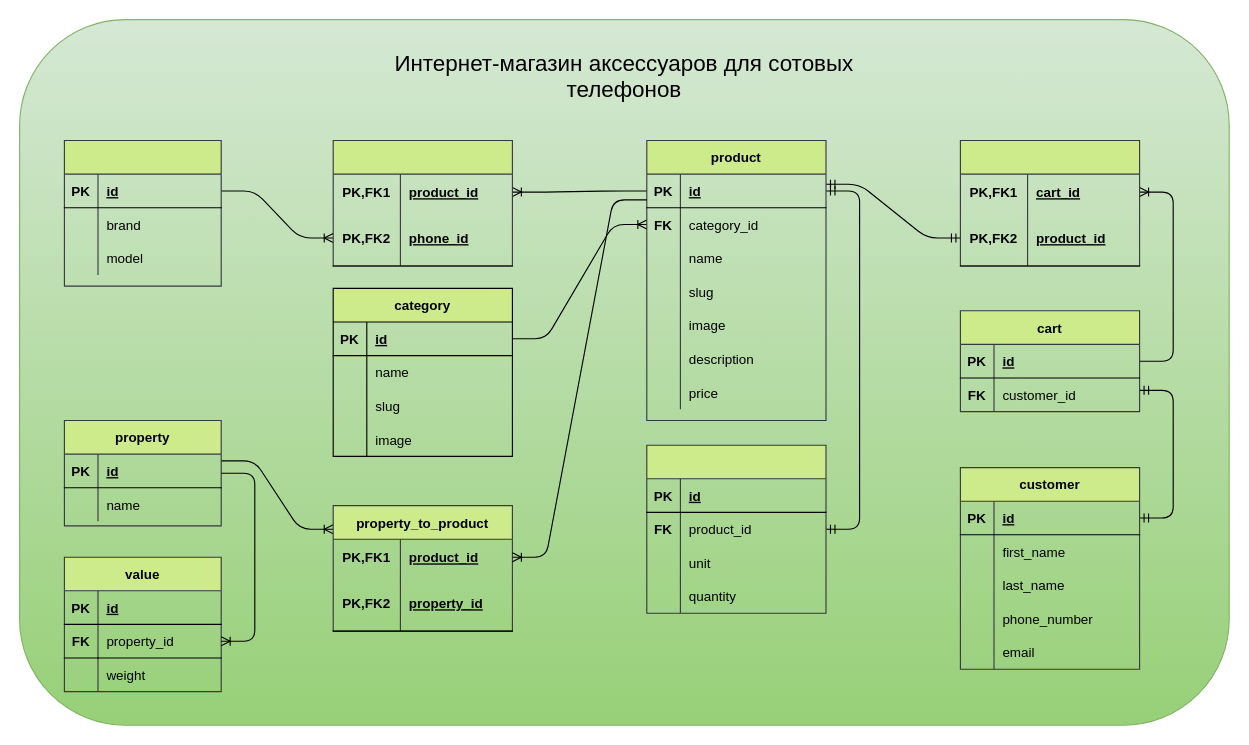
The diagram is 1249 pixels wide and 745 high, and some of its shapes have lost their labels. Here are the shapes that lost their labels. From the top down, the box of each, then its label:
(63, 139, 221, 286): phone
(332, 139, 512, 266): product_to_phone
(959, 139, 1140, 266): product_in_cart
(646, 444, 826, 613): storage
